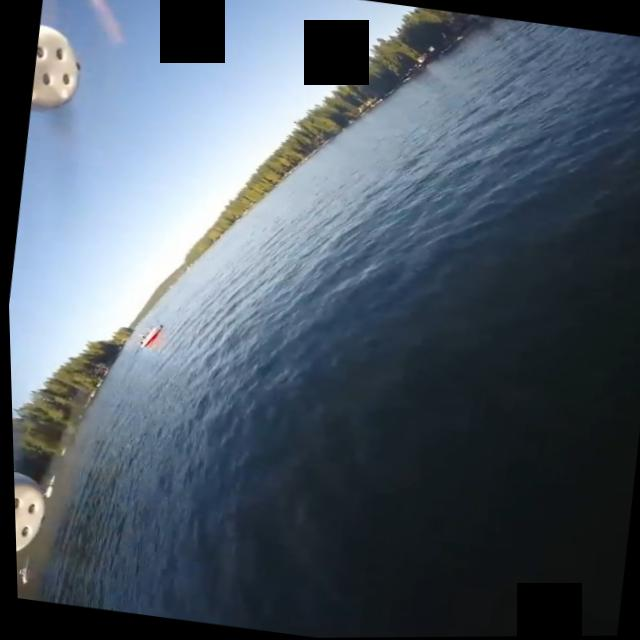Vehicle: (129, 317, 166, 353)
